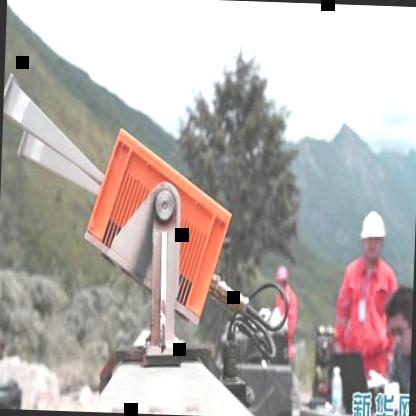head: (378, 281, 414, 361)
helmet: (358, 206, 388, 265), (273, 264, 294, 292)
